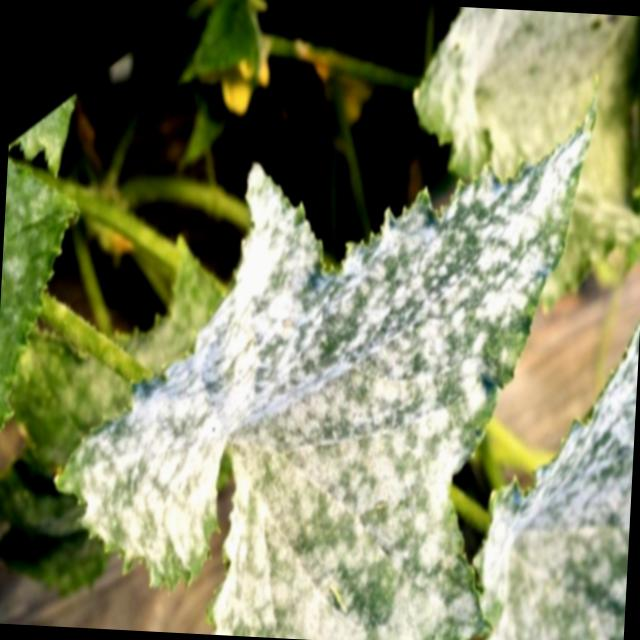Powdery_Mildew: (297, 96, 608, 640), (36, 138, 347, 639), (464, 316, 639, 640)
